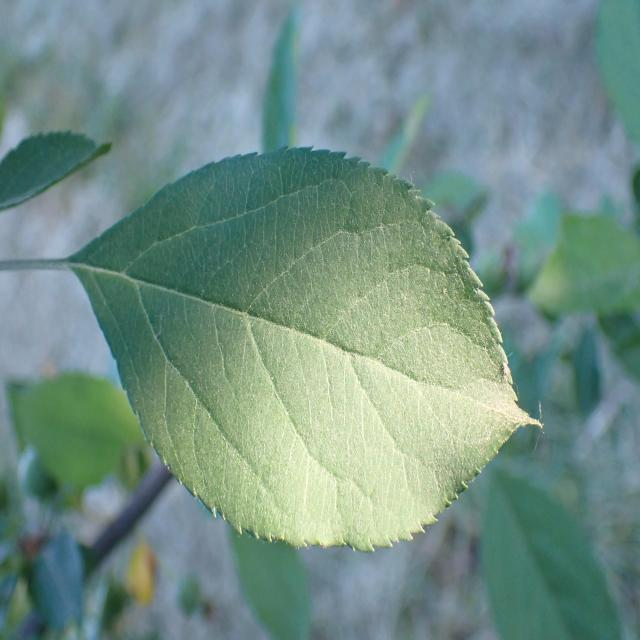healthy: (73, 144, 544, 554)
